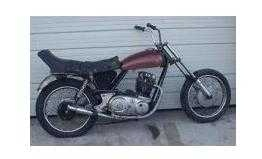motorcycle: (35, 26, 232, 139)
